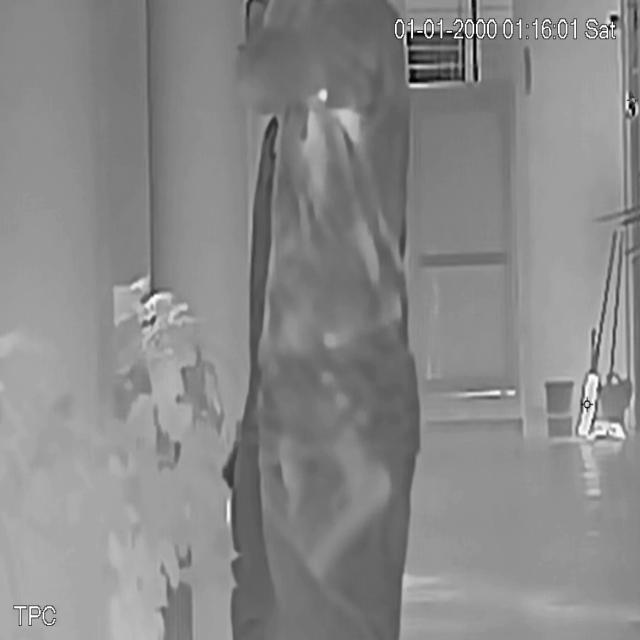Weapon: (304, 422, 404, 595)
